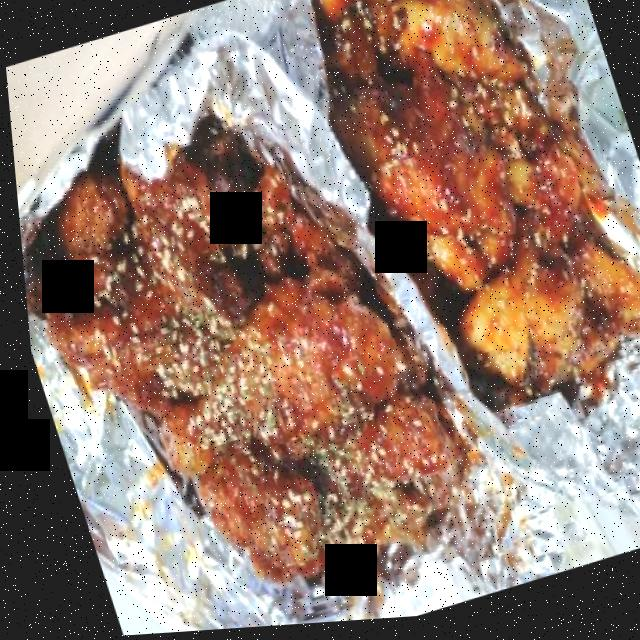Frango: (6, 57, 479, 640)
